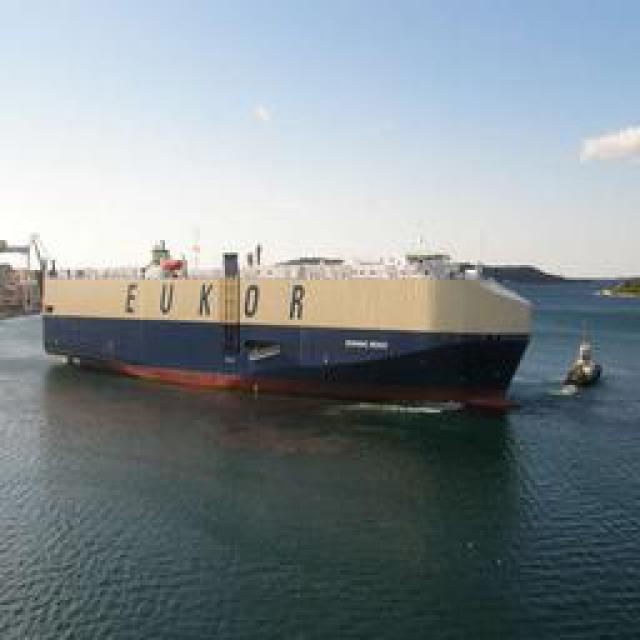Ship: (47, 241, 535, 409)
